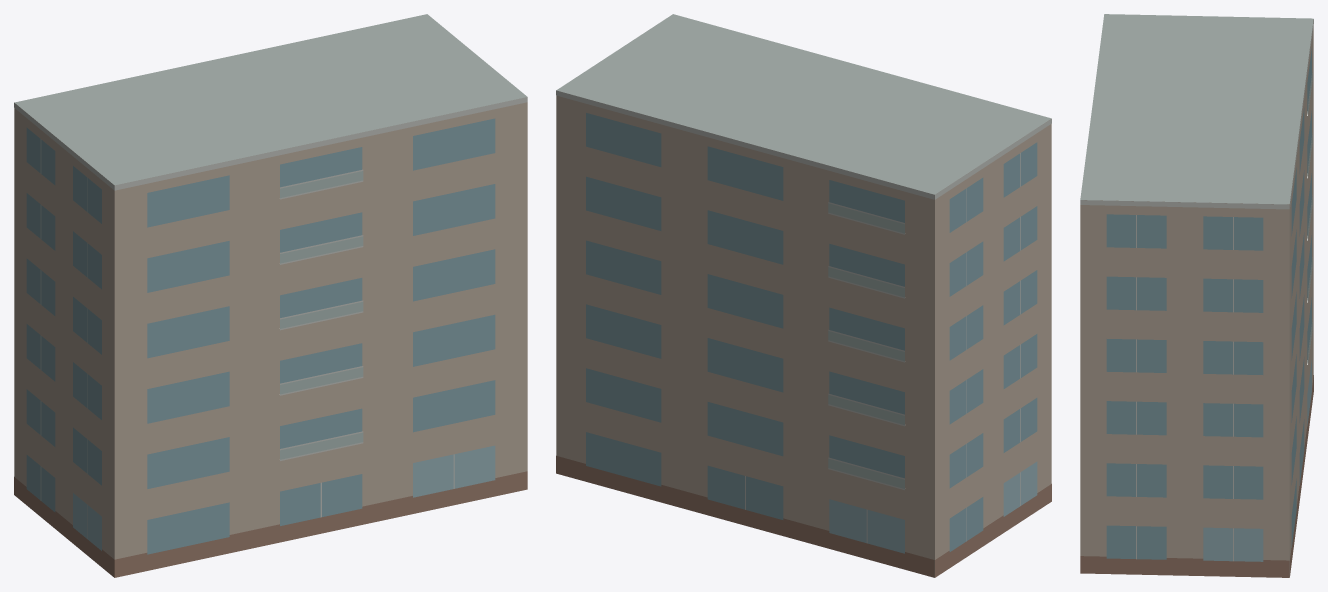
The model's file is survey-upis-32553552.glb.
The picture shows the model from 3 angles, left to right: view 1: azimuth 30°, elevation 25°; view 2: azimuth 150°, elevation 25°; view 3: azimuth 270°, elevation 25°; orthographic projection. The views are drawn at different scales.
Visible parts, largest first — view 1: survey-upis-32553552.tmp; view 2: survey-upis-32553552.tmp; view 3: survey-upis-32553552.tmp.
Part boxes in pixels (<box>): survey-upis-32553552.tmp: <box>14,14,527,577</box>; survey-upis-32553552.tmp: <box>556,14,1051,577</box>; survey-upis-32553552.tmp: <box>1080,14,1313,577</box>.
Size of the model in its own units: 20.03 by 18.3 by 10.38.
